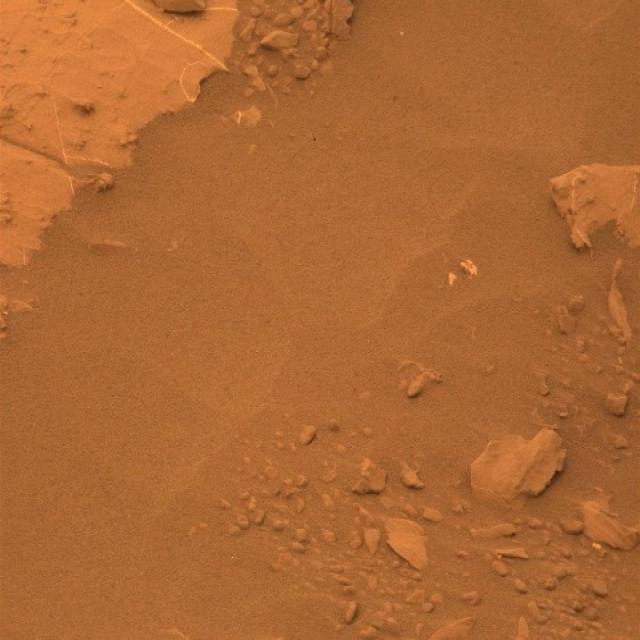rock: (546, 162, 640, 255), (470, 430, 567, 498)
